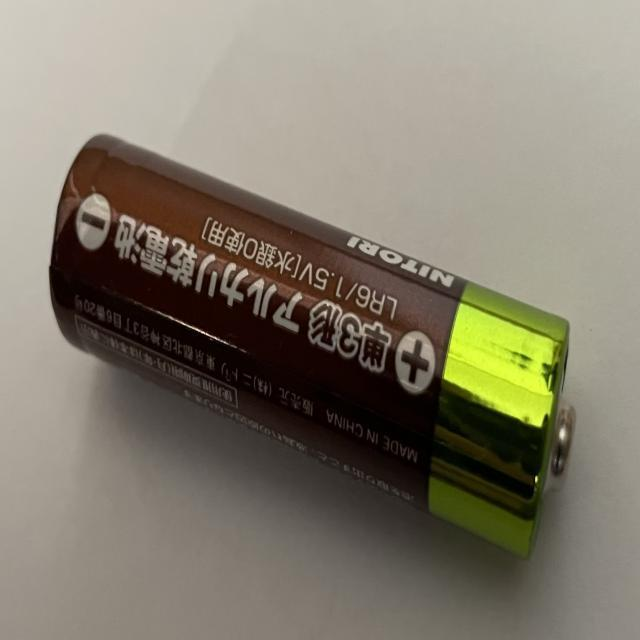AA: (46, 130, 578, 568)
